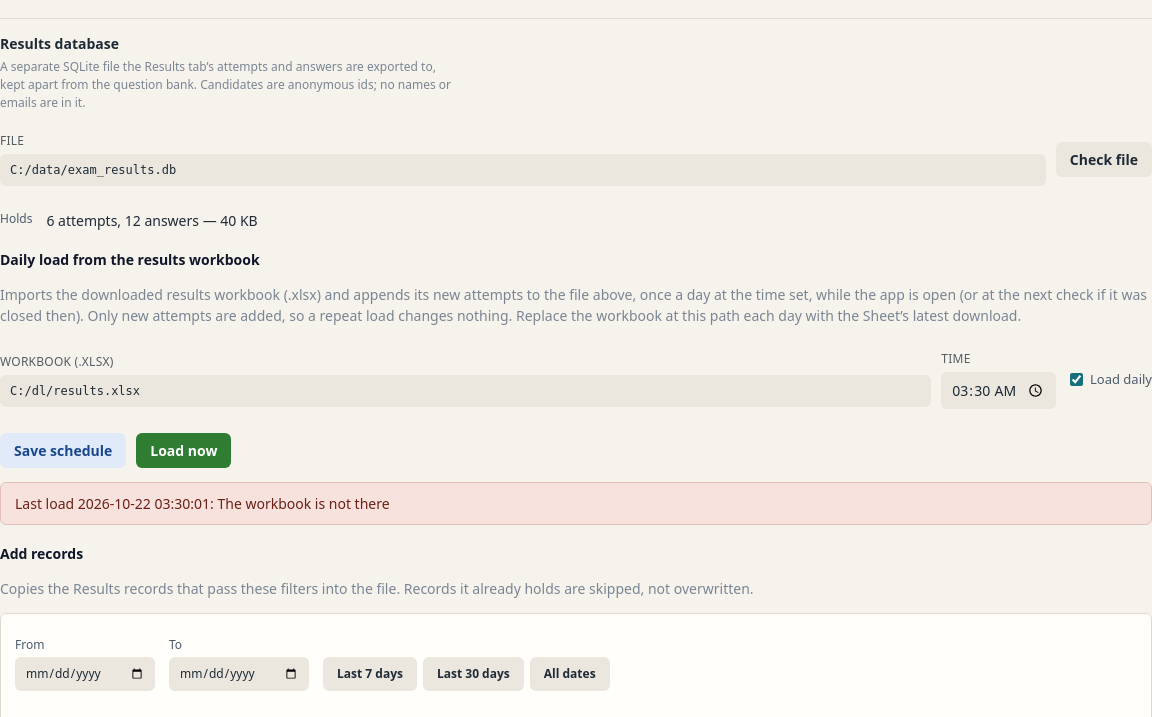
Test: ResultsDbAdmin › shows the saved schedule and its last outcome, saves it, and loads on demand
The image size is (1152, 717).
Expected: the field showing "C:/dl/results.xlsx" is shown, [0,374,931,406]
Expected: the time field named "Daily load time" holds "03:30", [941,372,1056,409]
Click the button "Save schedule" at (63, 450), box [0,433,126,468]
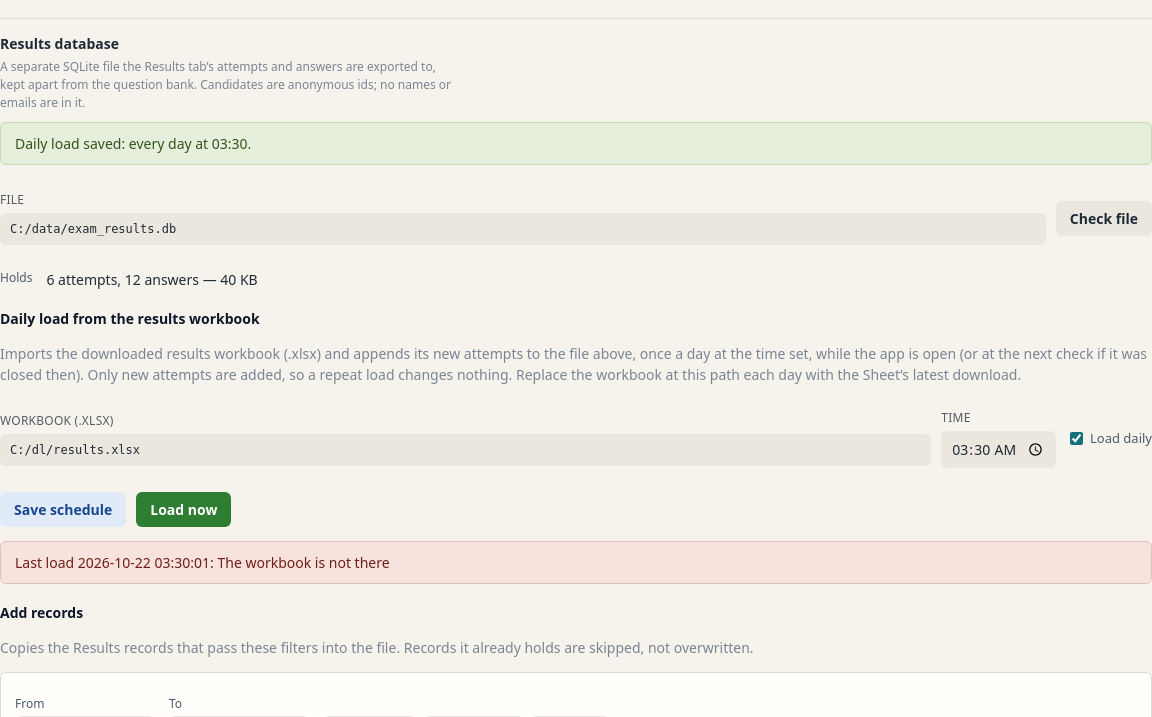
Expected: the text "Daily load saved: every day at 03:30." is shown, [0,122,1151,165]
Click the button "Load now" at (184, 510), box [136,492,231,527]
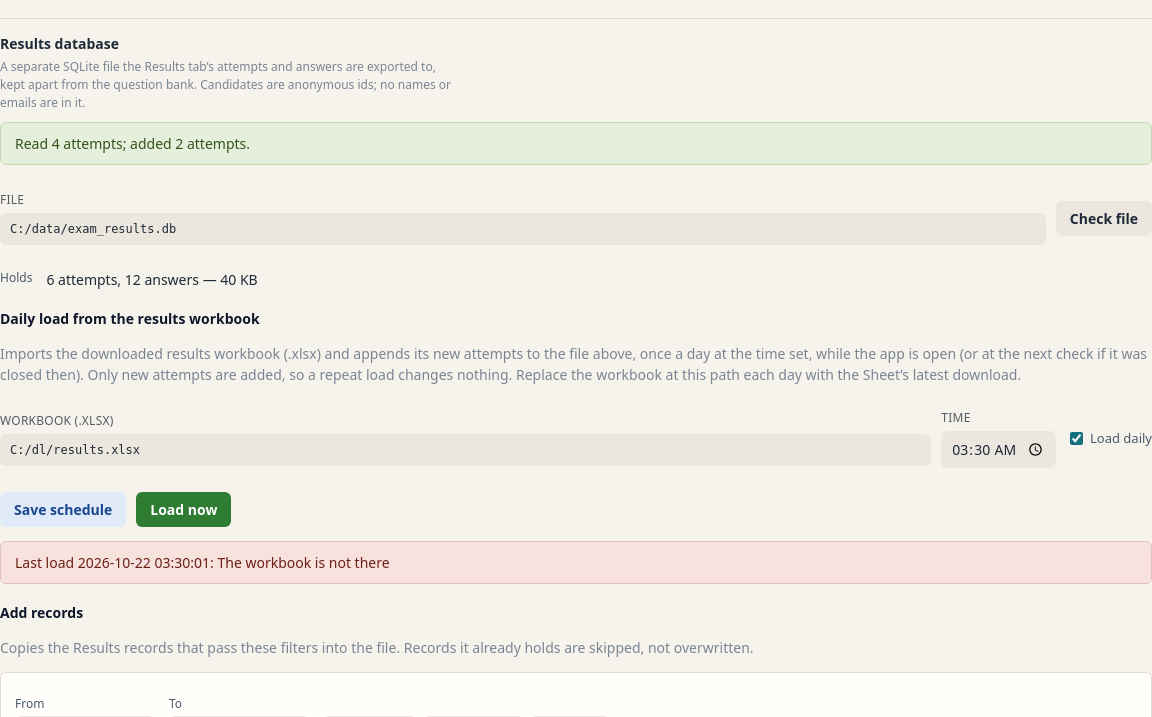
Expected: the text "Read 4 attempts; added 2 attempts." is shown, [0,122,1151,165]
